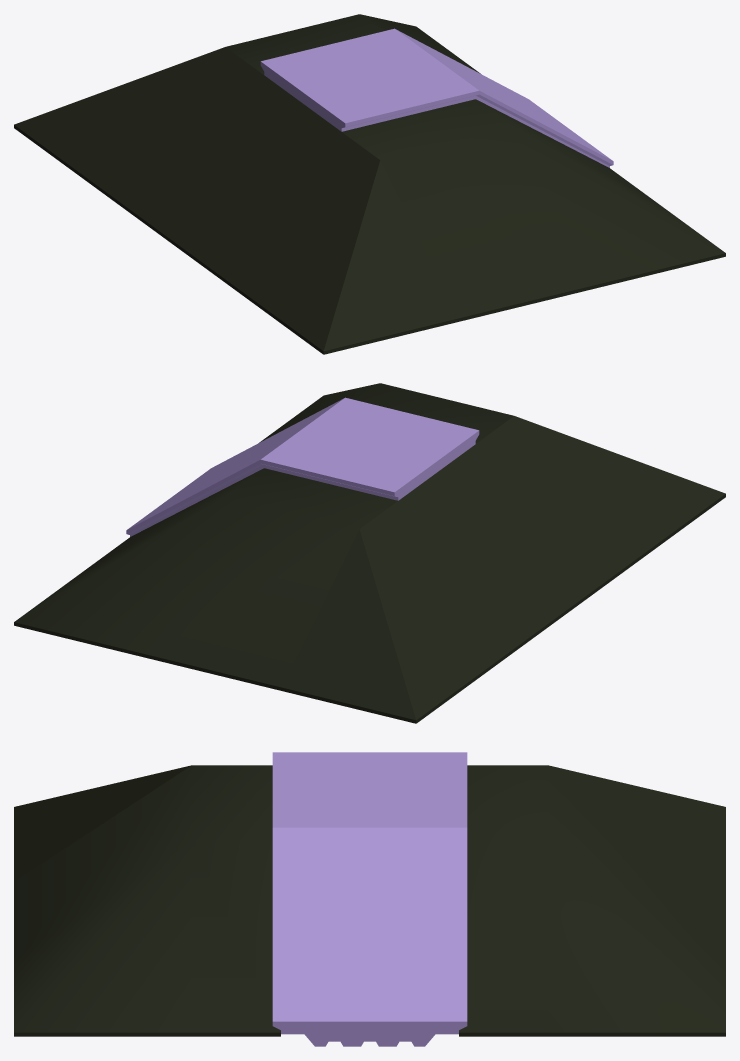
File: SM_Bridge_Base_01.fbx
3 views of the same model, one above another, from view 1: azimuth 30°, elevation 25°; view 2: azimuth 150°, elevation 25°; view 3: azimuth 270°, elevation 25° (orthographic). The views are drawn at different scales.
Parts seen in each view (by area): view 1: SM_Bridge_Base_01; view 2: SM_Bridge_Base_01; view 3: SM_Bridge_Base_01.
Boxes of the visible parts, box(x1,y1,x2,y2) form: SM_Bridge_Base_01: box(14, 14, 725, 354); SM_Bridge_Base_01: box(14, 383, 725, 723); SM_Bridge_Base_01: box(14, 752, 725, 1046).
Bounding box in the file's own units: 2400 × 713 × 3200.
